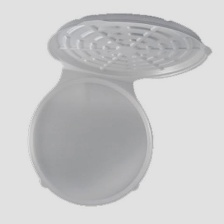foam_box: (21, 8, 216, 212)
